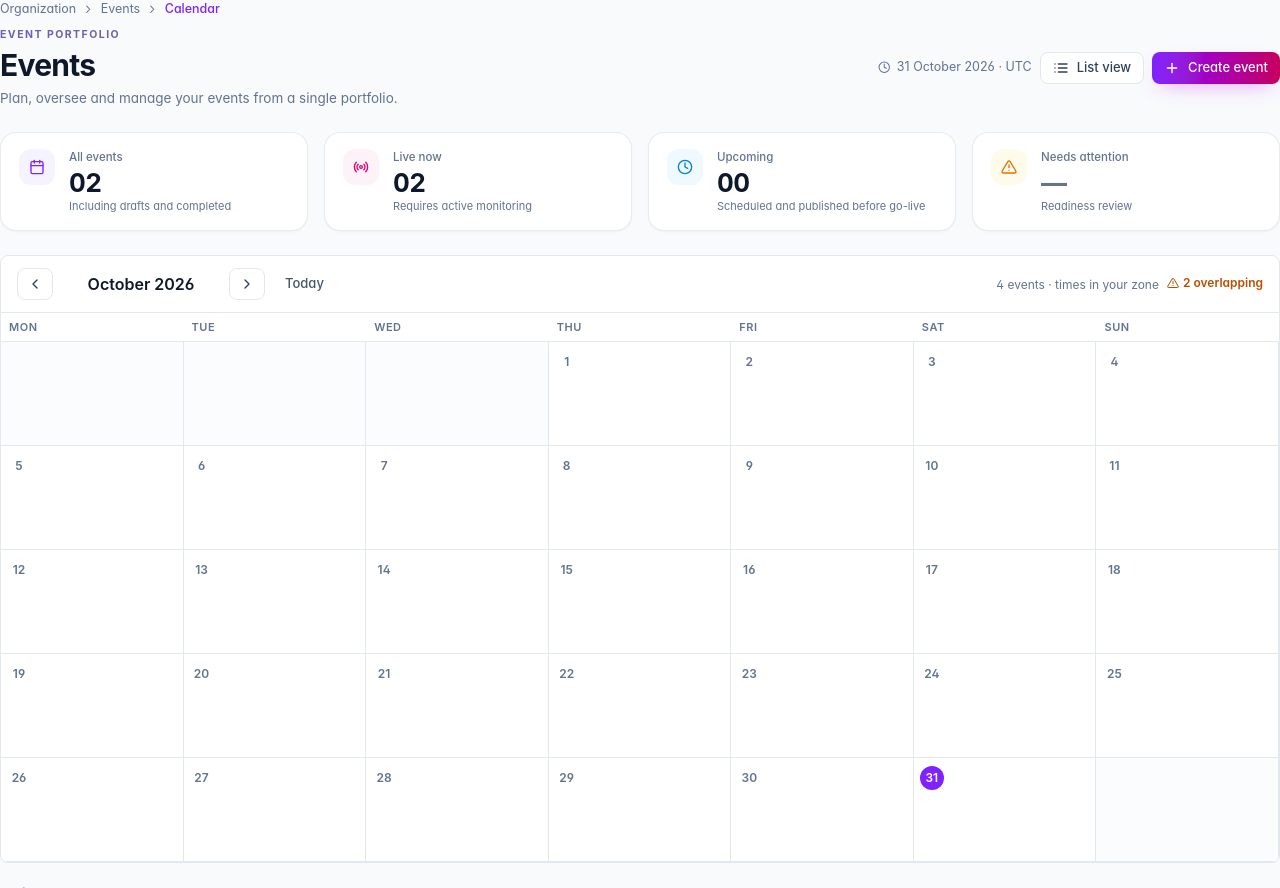
the calendar › counts unique overlapping pairs after navigating to a month with multiple conflicts
This screenshot has width=1280, height=888.
Click the button named "Next month" at (247, 284), box [229,268,265,300]
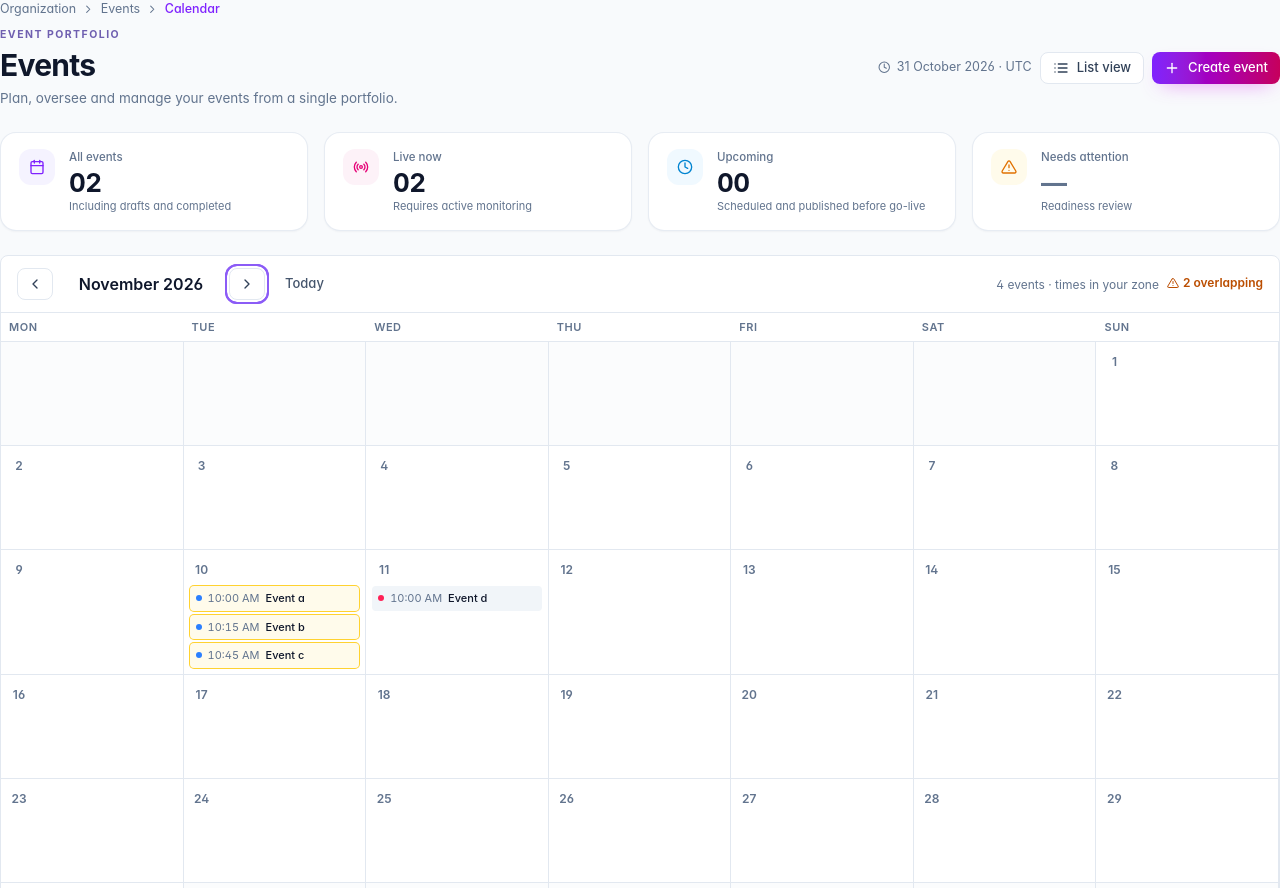
Expected: the text "2 overlapping" is shown, [1167,274,1263,292]
Result: the text "Event a" is shown at [266,590,305,607]
